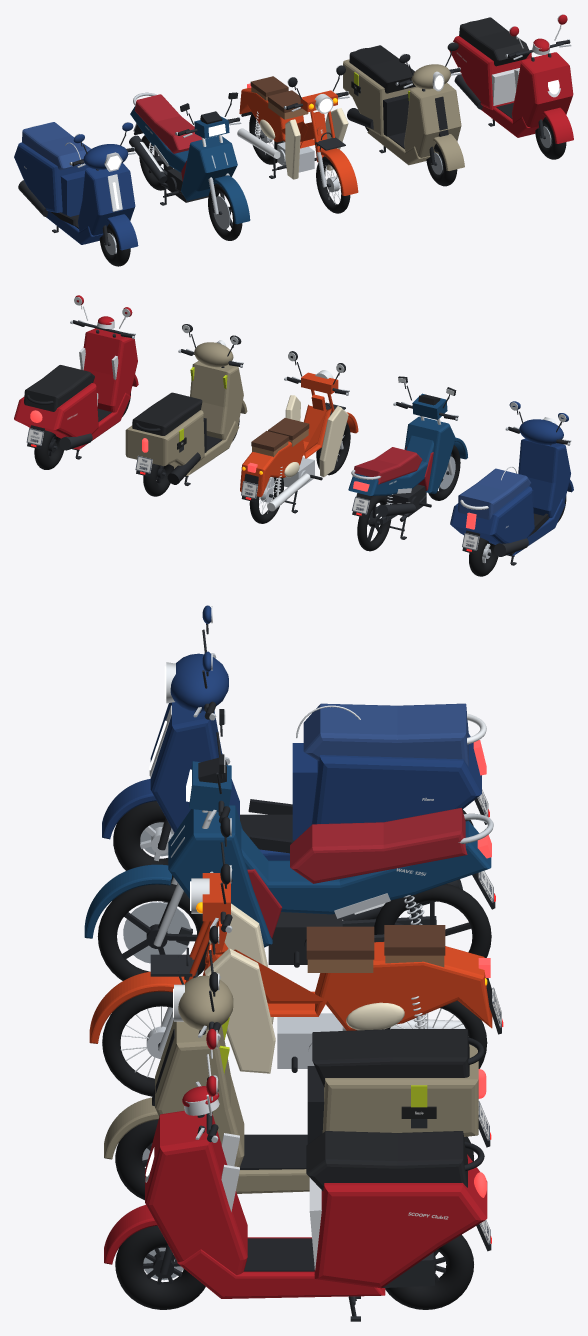
File: motorcycles.glb
The picture shows the model from 3 angles, top to bottom: view 1: azimuth 30°, elevation 25°; view 2: azimuth 150°, elevation 25°; view 3: azimuth 270°, elevation 25°; orthographic projection. The views are drawn at different scales.
Parts seen in each view (by area): view 1: Steering_Pivot (×5), Moto05_Scoopy_Club12_Red, Moto01_GrandFilano_Blue, Moto04_Fazzio_Khaki, Moto02_Wave125i_BlueRed, Moto03_SuperCub_Orange, Front_Wheel (×5), CreamLegShield_R, Front_Fender, CreamLegShield_L; view 2: Moto05_Scoopy_Club12_Red, Moto01_GrandFilano_Blue, Moto04_Fazzio_Khaki, Moto02_Wave125i_BlueRed, Moto03_SuperCub_Orange, Steering_Pivot (×5), CreamLegShield_R, Front_Wheel (×2); view 3: Moto05_Scoopy_Club12_Red, Moto02_Wave125i_BlueRed, Moto01_GrandFilano_Blue, Moto04_Fazzio_Khaki, Steering_Pivot (×5), Moto03_SuperCub_Orange, Front_Wheel (×5), CreamLegShield_L, CreamLegShield_R, Front_Fender.
Part boxes in pixels (left/top/right/bottom): Steering_Pivot (×5): left=69, top=14, right=573, bottom=245; Moto05_Scoopy_Club12_Red: left=449, top=17, right=573, bottom=137; Moto01_GrandFilano_Blue: left=14, top=122, right=135, bottom=244; Moto04_Fazzio_Khaki: left=343, top=45, right=461, bottom=165; Moto02_Wave125i_BlueRed: left=129, top=92, right=237, bottom=205; Moto03_SuperCub_Orange: left=237, top=76, right=327, bottom=178; Front_Wheel (×5): left=99, top=117, right=566, bottom=266; CreamLegShield_R: left=285, top=119, right=300, bottom=179; Front_Fender: left=106, top=214, right=138, bottom=250; CreamLegShield_L: left=325, top=108, right=348, bottom=170; Moto05_Scoopy_Club12_Red: left=14, top=328, right=137, bottom=469; Moto01_GrandFilano_Blue: left=450, top=438, right=570, bottom=576; Moto04_Fazzio_Khaki: left=125, top=361, right=243, bottom=496; Moto02_Wave125i_BlueRed: left=348, top=416, right=455, bottom=551; Moto03_SuperCub_Orange: left=240, top=394, right=331, bottom=523; Steering_Pivot (×5): left=70, top=295, right=571, bottom=475; CreamLegShield_R: left=319, top=406, right=348, bottom=477; Front_Wheel (×2): left=316, top=422, right=460, bottom=500; Moto05_Scoopy_Club12_Red: left=145, top=1110, right=491, bottom=1321; Moto02_Wave125i_BlueRed: left=168, top=805, right=495, bottom=967; Moto01_GrandFilano_Blue: left=149, top=702, right=489, bottom=860; Moto04_Fazzio_Khaki: left=152, top=1017, right=491, bottom=1193; Steering_Pivot (×5): left=84, top=605, right=233, bottom=1274; Moto03_SuperCub_Orange: left=203, top=921, right=503, bottom=1072; Front_Wheel (×5): left=97, top=801, right=209, bottom=1309; CreamLegShield_L: left=204, top=948, right=275, bottom=1073; CreamLegShield_R: left=209, top=903, right=273, bottom=1024; Front_Fender: left=102, top=779, right=156, bottom=839.
Bounding box in the file's own units: 5.27 × 1.3 × 1.92.
Materials: 46 (6 with a texture image).
